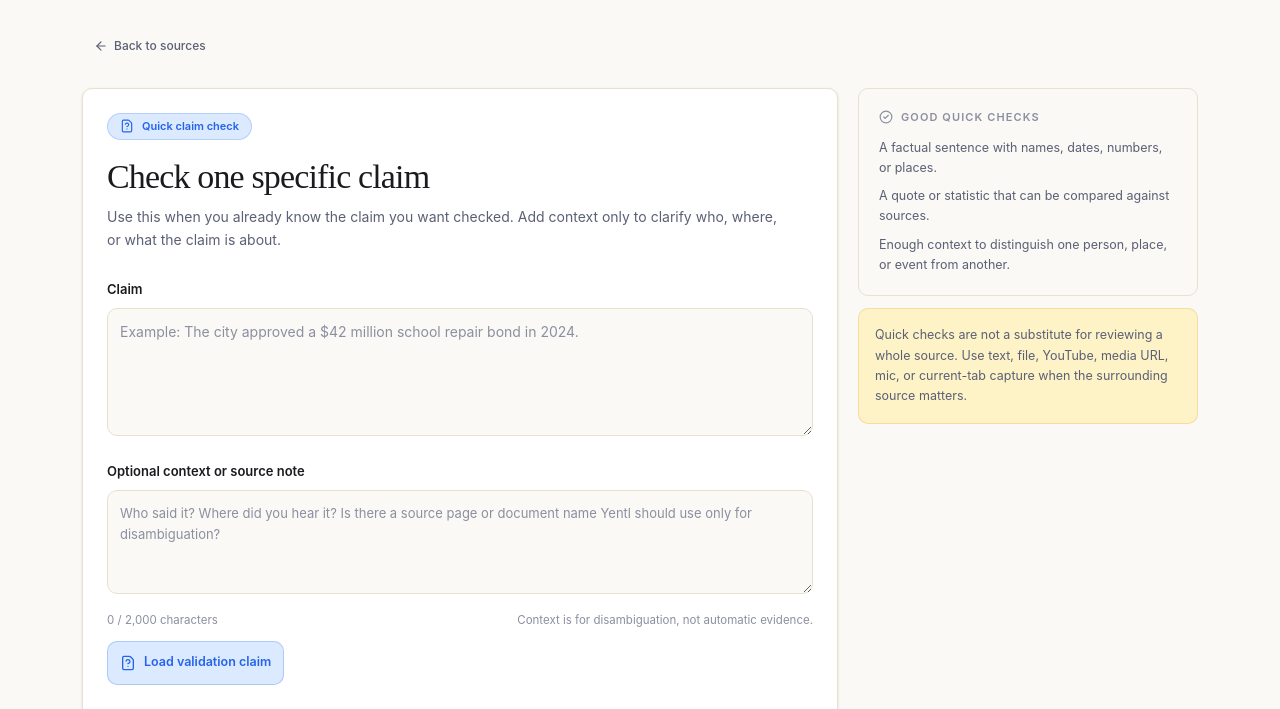
ClaimQuickCheckPane › asks for context before checking an ambiguous standalone claim
Replace the text in the text box labelled "Claim" with "He said it was illegal yesterday." at (460, 372), box [107,308,813,436]
(page scrolled)
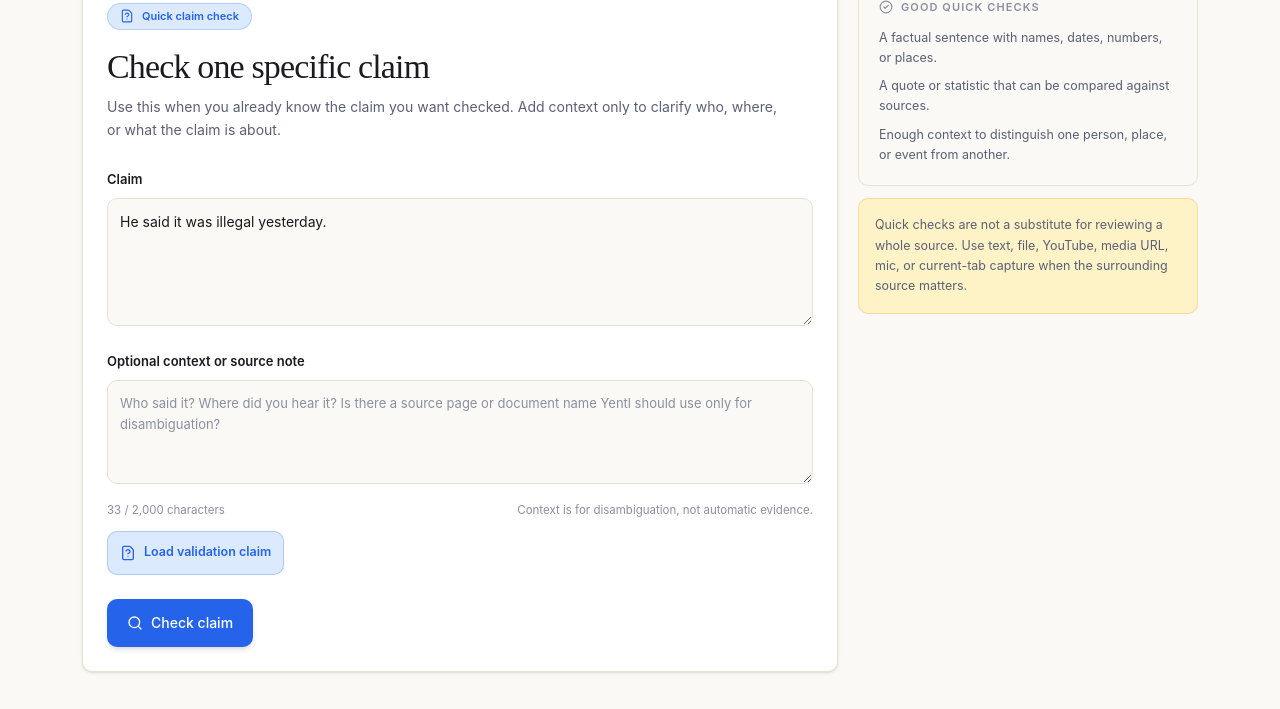
Click the button "Check claim" at (180, 623), box [107,599,253,647]
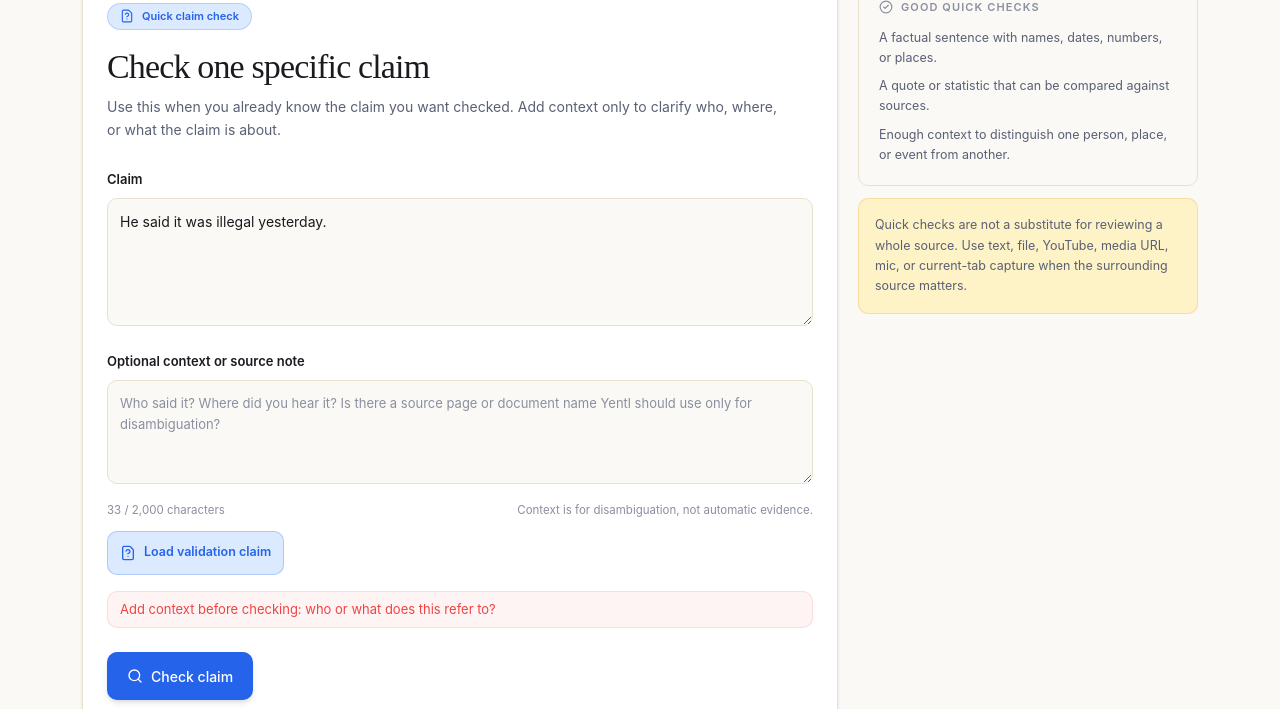
Expected: the message shows "Add context before checking", [120,601,496,617]
